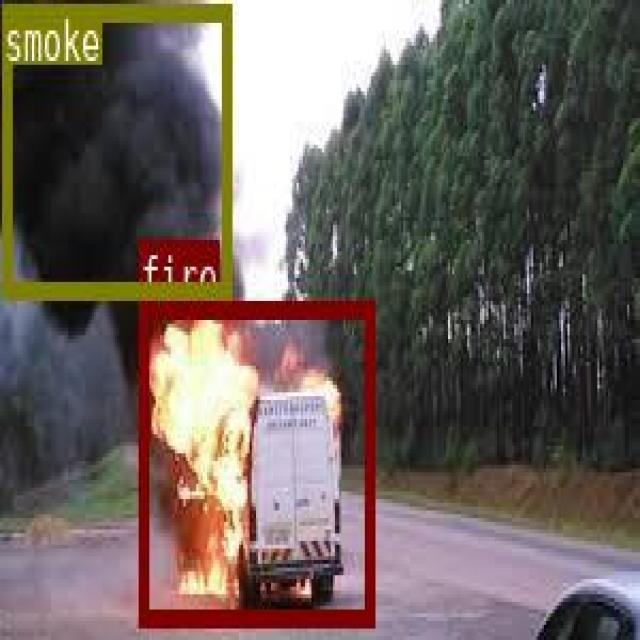fire: (138, 301, 372, 623)
smoke: (2, 2, 230, 294)
